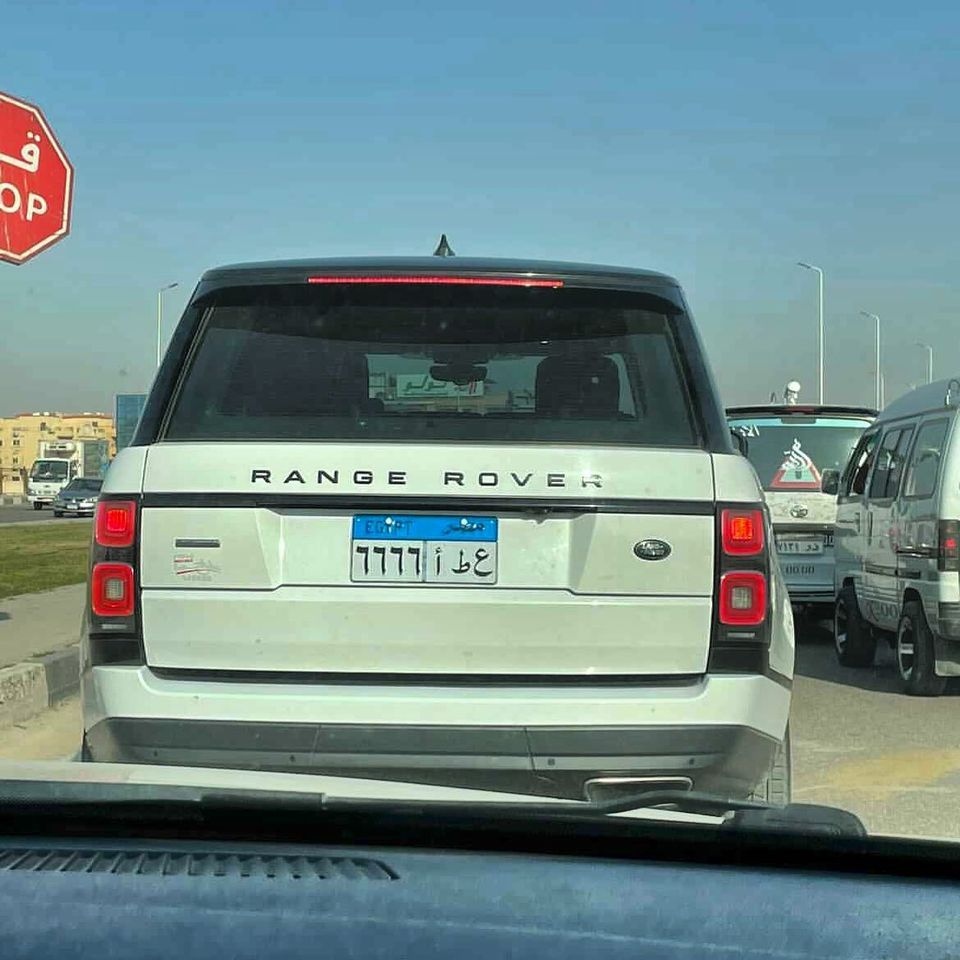carpl: (350, 519, 499, 586)
